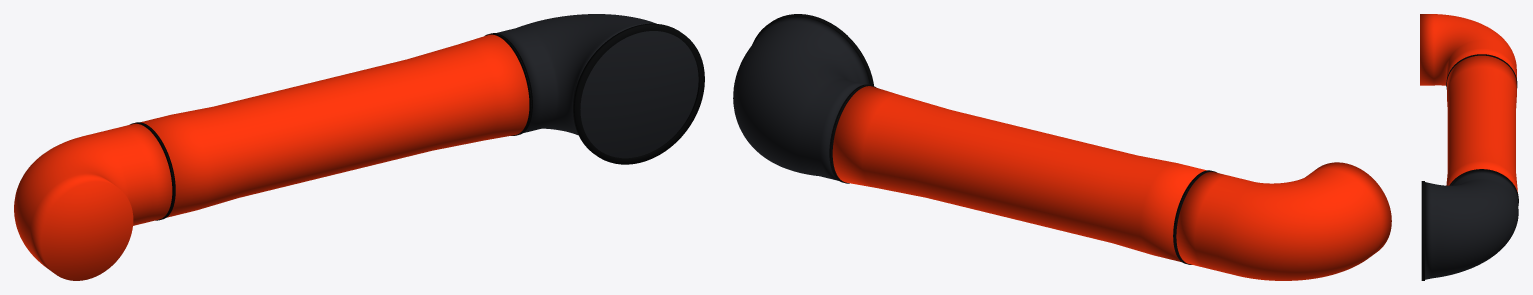
3 views of the same model, side by side, from view 1: azimuth 30°, elevation 25°; view 2: azimuth 150°, elevation 25°; view 3: azimuth 270°, elevation 25° (orthographic). The views are drawn at different scales.
Visible parts, largest first — view 1: part1-node, part0-node, part2-node, part5-node, part3-node, part4-node; view 2: part1-node, part2-node, part0-node, part5-node, part3-node, part4-node; view 3: part0-node, part1-node, part2-node, part5-node, part4-node, part3-node.
Boxes of the visible parts, x1,y1,x2,y2 form: part1-node: (141, 34, 529, 217); part0-node: (496, 14, 698, 158); part2-node: (14, 123, 172, 280); part5-node: (573, 23, 704, 164); part3-node: (485, 33, 532, 135); part4-node: (129, 122, 175, 220); part1-node: (832, 86, 1206, 262); part2-node: (1176, 162, 1391, 280); part0-node: (733, 17, 869, 180); part5-node: (752, 14, 873, 85); part3-node: (829, 84, 875, 183); part4-node: (1173, 170, 1216, 264); part0-node: (1425, 170, 1518, 279); part1-node: (1446, 55, 1517, 192); part2-node: (1420, 14, 1516, 85); part5-node: (1421, 181, 1424, 280); part4-node: (1446, 54, 1517, 89); part3-node: (1449, 169, 1518, 205).
Size of the model in its own units: 0.6468 by 0.1243 by 0.126.
